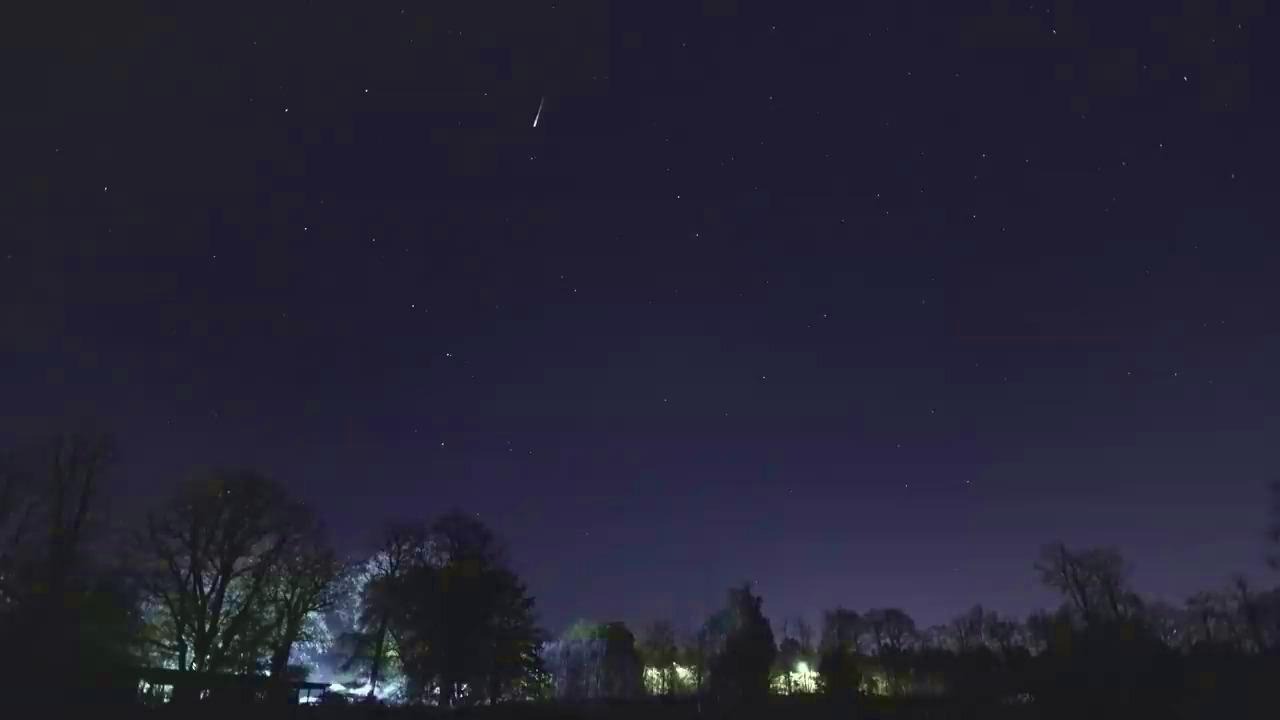meteorite: (483, 93, 599, 131)
